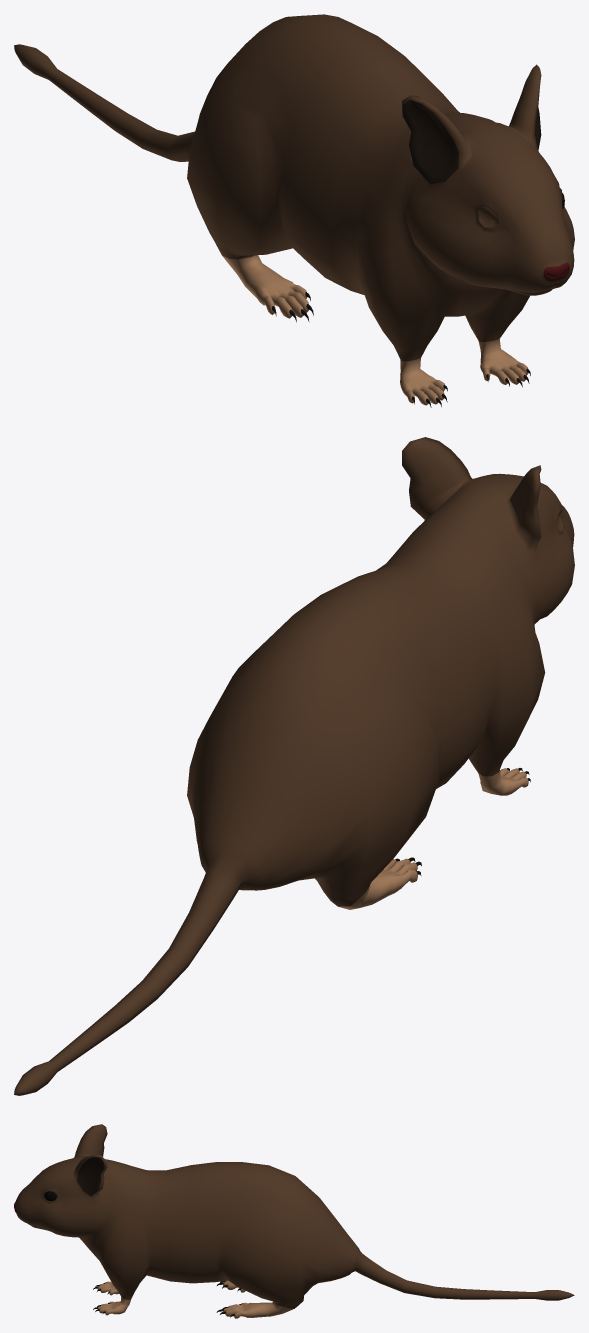
The model's file is degu.obj.
3 views of the same model, one above another, from view 1: azimuth 30°, elevation 25°; view 2: azimuth 150°, elevation 25°; view 3: azimuth 270°, elevation 25° (orthographic). The views are drawn at different scales.
Parts seen in each view (by area): view 1: degu; view 2: degu; view 3: degu.
Part boxes in pixels (x1,y1,x2,y2): degu: (14, 14, 574, 407); degu: (14, 437, 574, 1095); degu: (14, 1124, 574, 1318).
Size of the model in its own units: 0.07 by 0.1056 by 0.3332.
